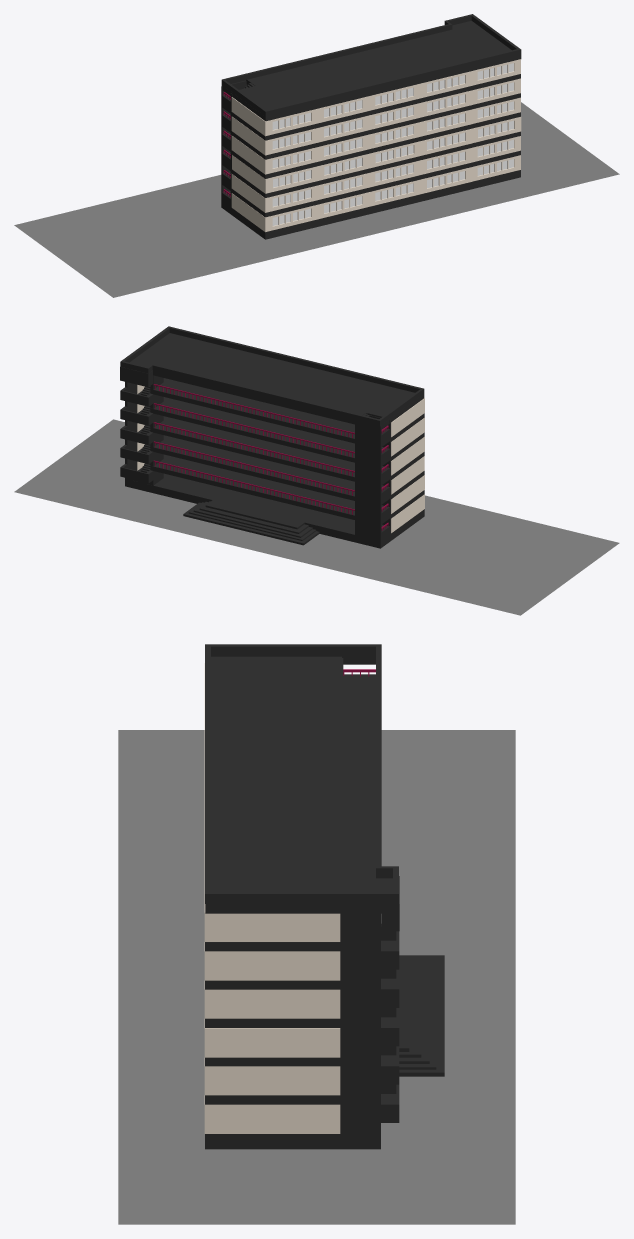
3 renders of one model, top to bottom at view 1: azimuth 30°, elevation 25°; view 2: azimuth 150°, elevation 25°; view 3: azimuth 270°, elevation 25°, orthographic. The views are drawn at different scales.
Visible parts, largest first — view 1: Mặt Phẳng, Lập Phương.008, Lập Phương.086, Lập Phương.046, Lập Phương.007, Lập Phương.027, Lập Phương.017, Lập Phương.036, Lập Phương.053, Lập Phương.006, Lập Phương.044, Lập Phương.034 (+26 smaller); view 2: Mặt Phẳng, Lập Phương.008, Lập Phương.086, Lập Phương.017, Lập Phương.036, Lập Phương.007, Lập Phương.027, Lập Phương.046, Lập Phương.038, Lập Phương.043, Lập Phương.056, Lập Phương.035 (+18 smaller); view 3: Mặt Phẳng, Lập Phương.008, Lập Phương.086, Lập Phương.019, Lập Phương.037, Lập Phương.018, Lập Phương.028, Lập Phương.009, Lập Phương.047, Lập Phương.038, Lập Phương.010, Lập Phương.020 (+7 smaller).
Part boxes in pixels (x1=…): Mặt Phẳng: x1=14, y1=102, x2=619, y2=297; Lập Phương.008: x1=221, y1=14, x2=521, y2=121; Lập Phương.086: x1=221, y1=170, x2=520, y2=239; Lập Phương.046: x1=222, y1=74, x2=520, y2=140; Lập Phương.007: x1=232, y1=150, x2=520, y2=217; Lập Phương.027: x1=223, y1=112, x2=520, y2=178; Lập Phương.017: x1=222, y1=131, x2=520, y2=197; Lập Phương.036: x1=222, y1=93, x2=520, y2=159; Lập Phương.053: x1=231, y1=97, x2=316, y2=136; Lập Phương.006: x1=231, y1=193, x2=316, y2=232; Lập Phương.044: x1=231, y1=116, x2=316, y2=155; Lập Phương.034: x1=231, y1=135, x2=316, y2=174; Mặt Phẳng: x1=14, y1=419, x2=619, y2=615; Lập Phương.008: x1=120, y1=326, x2=424, y2=430; Lập Phương.086: x1=125, y1=467, x2=424, y2=548; Lập Phương.017: x1=137, y1=429, x2=424, y2=504; Lập Phương.036: x1=138, y1=390, x2=424, y2=465; Lập Phương.007: x1=138, y1=448, x2=424, y2=519; Lập Phương.027: x1=138, y1=410, x2=424, y2=484; Lập Phương.046: x1=151, y1=378, x2=424, y2=446; Lập Phương.038: x1=120, y1=375, x2=163, y2=412; Lập Phương.043: x1=153, y1=460, x2=354, y2=514; Lập Phương.056: x1=153, y1=384, x2=354, y2=437; Lập Phương.035: x1=153, y1=422, x2=354, y2=476; Mặt Phẳng: x1=118, y1=730, x2=515, y2=1224; Lập Phương.008: x1=205, y1=644, x2=399, y2=931; Lập Phương.086: x1=205, y1=955, x2=444, y2=1149; Lập Phương.019: x1=204, y1=1019, x2=340, y2=1057; Lập Phương.037: x1=204, y1=942, x2=340, y2=980; Lập Phương.018: x1=204, y1=1095, x2=340, y2=1133; Lập Phương.028: x1=204, y1=981, x2=340, y2=1018; Lập Phương.009: x1=204, y1=1058, x2=340, y2=1095; Lập Phương.047: x1=204, y1=863, x2=340, y2=941; Lập Phương.038: x1=340, y1=913, x2=399, y2=989; Lập Phương.010: x1=340, y1=1046, x2=399, y2=1104; Lập Phương.020: x1=340, y1=1008, x2=399, y2=1066.
Bounding box in the file's own units: 4805 × 1265 × 1632.
